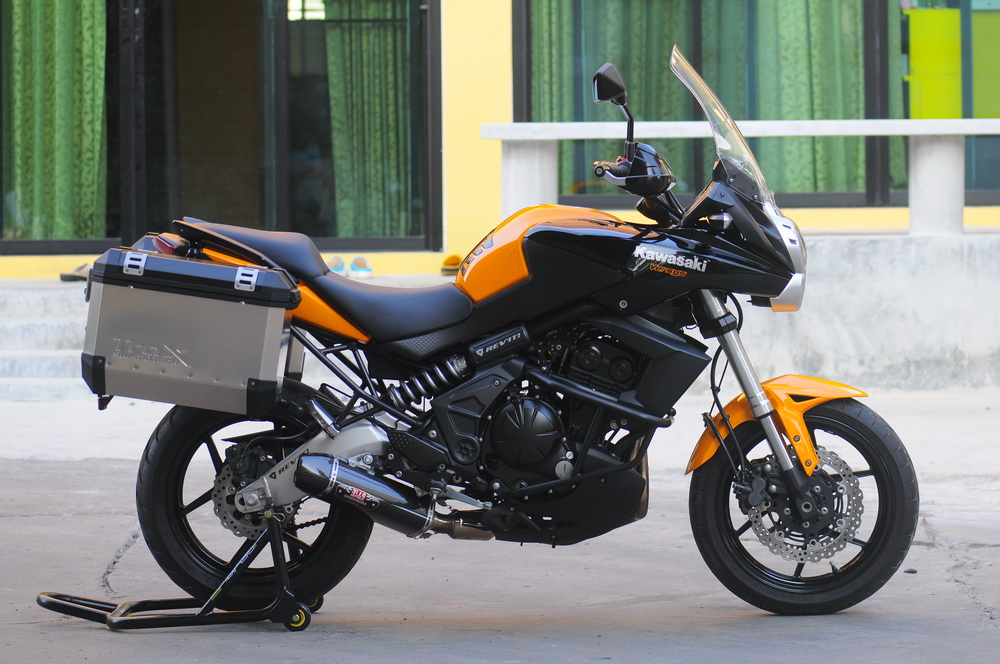motorcycle: (88, 158, 925, 621)
